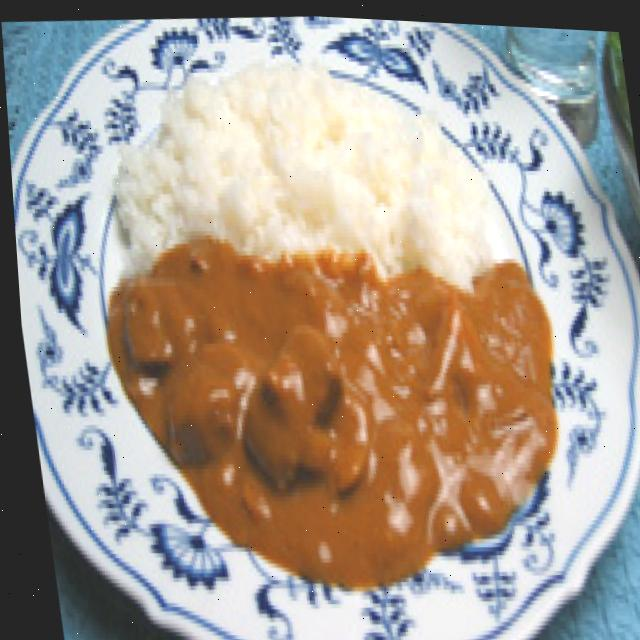牛肉菜式: (51, 34, 577, 625)
